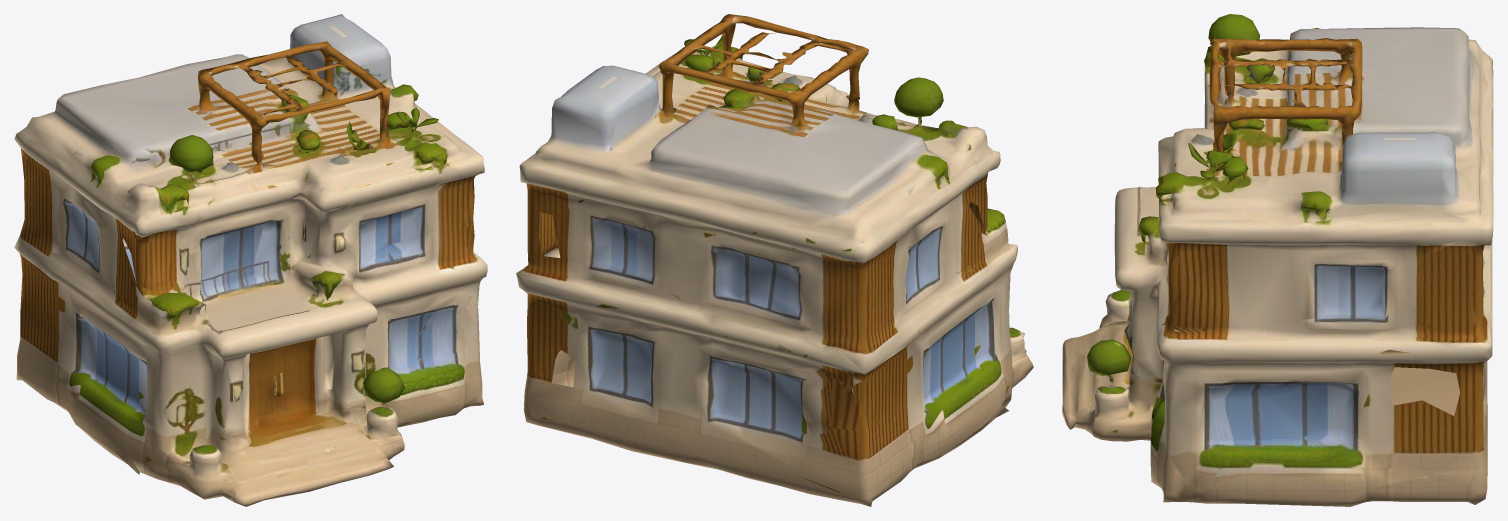
3 views of the same model, side by side, from view 1: azimuth 30°, elevation 25°; view 2: azimuth 150°, elevation 25°; view 3: azimuth 270°, elevation 25° (orthographic). The views are drawn at different scales.
Parts seen in each view (by area): view 1: house-villa; view 2: house-villa; view 3: house-villa.
Part boxes in pixels (x1=…): house-villa: x1=14, y1=14, x2=487, y2=506; house-villa: x1=516, y1=14, x2=1033, y2=506; house-villa: x1=1062, y1=14, x2=1493, y2=506.
Size of the model in its own units: 8.91 by 8 by 8.76.
Materials: 1 (1 with a texture image).
